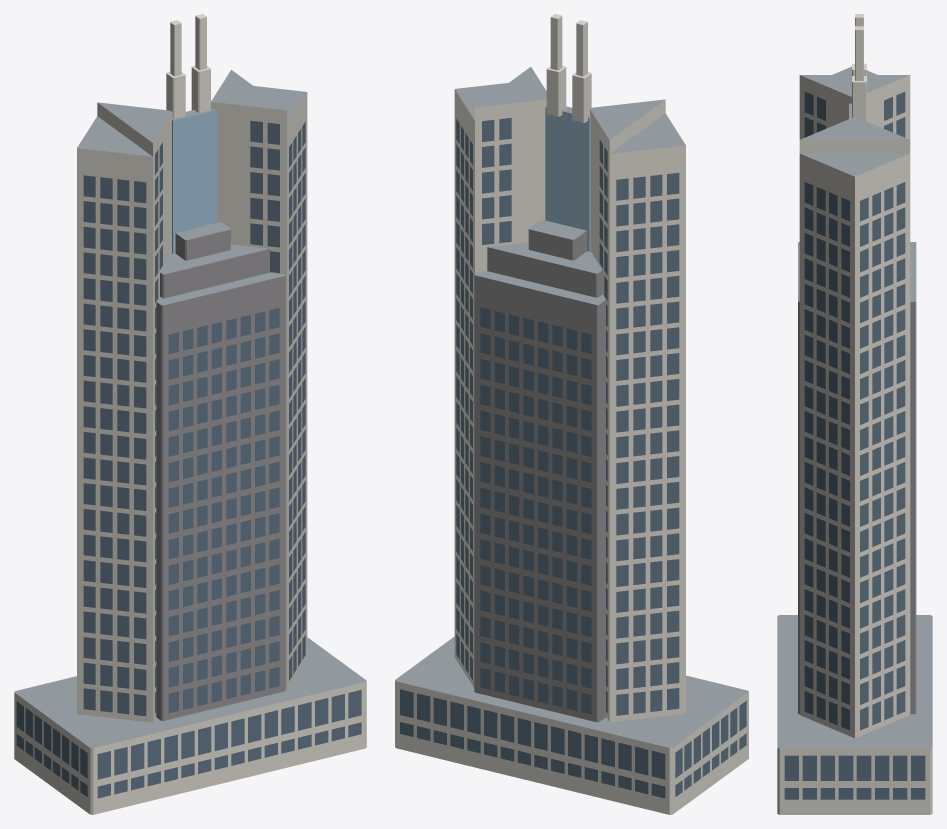
File: sf-345-california.glb
3 views of the same model, side by side, from view 1: azimuth 30°, elevation 25°; view 2: azimuth 150°, elevation 25°; view 3: azimuth 270°, elevation 25° (orthographic).
Parts seen in each view (by area): view 1: 345 California Center; view 2: 345 California Center; view 3: 345 California Center.
Part boxes in pixels (<box>): 345 California Center: <box>14,14,366,814</box>; 345 California Center: <box>395,14,748,814</box>; 345 California Center: <box>777,14,932,814</box>.
Bounding box in the file's own units: 84.7 × 214 × 41.5.
